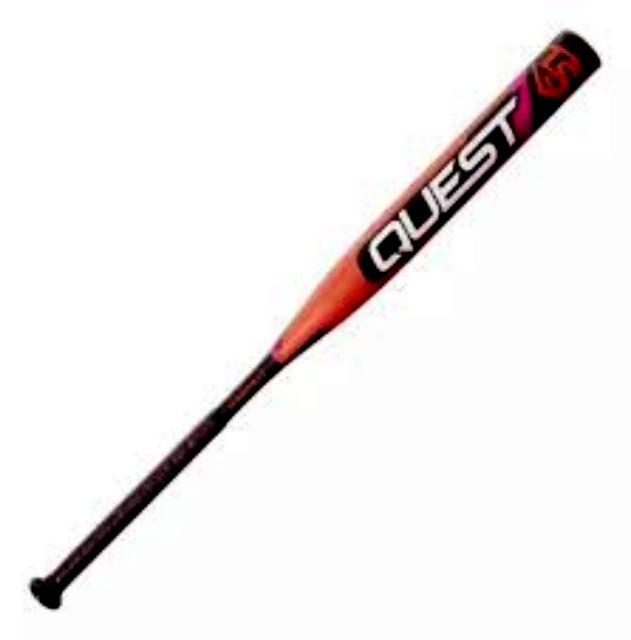baseball bat: (26, 26, 600, 608)
